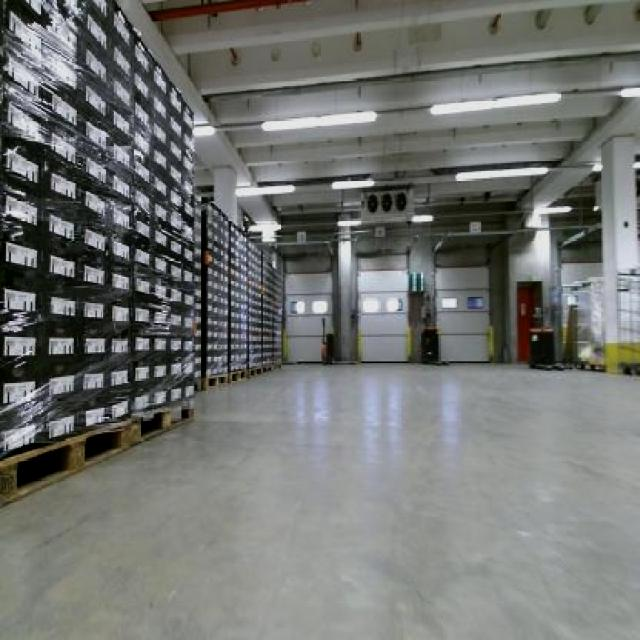floor: (0, 363, 637, 637)
